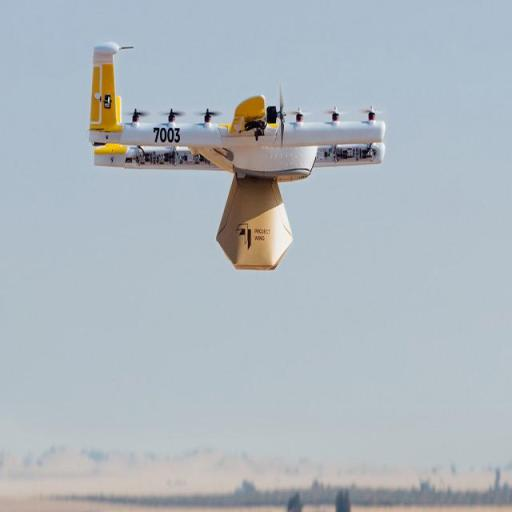uav: (82, 36, 394, 272)
